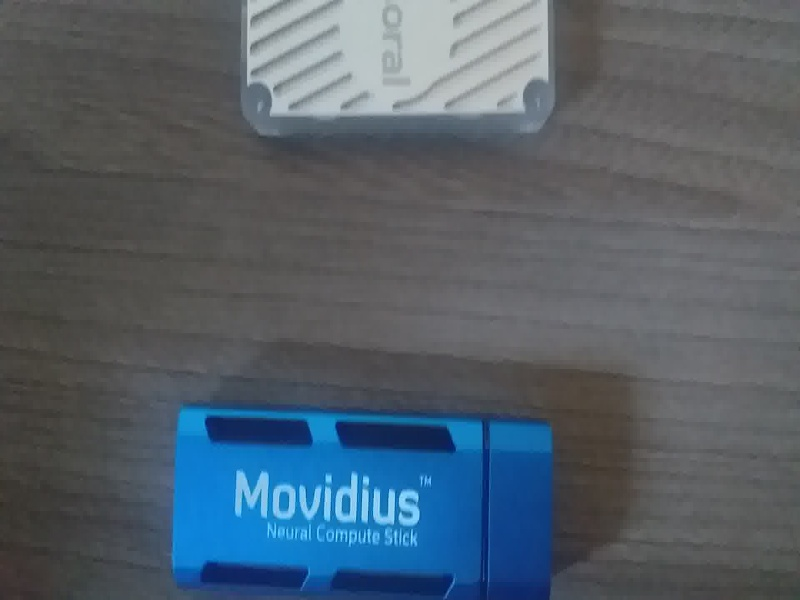coral: (224, 2, 575, 166)
movidius: (160, 397, 555, 600)
